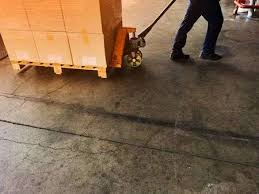Pallet Jack: (11, 1, 177, 80)
